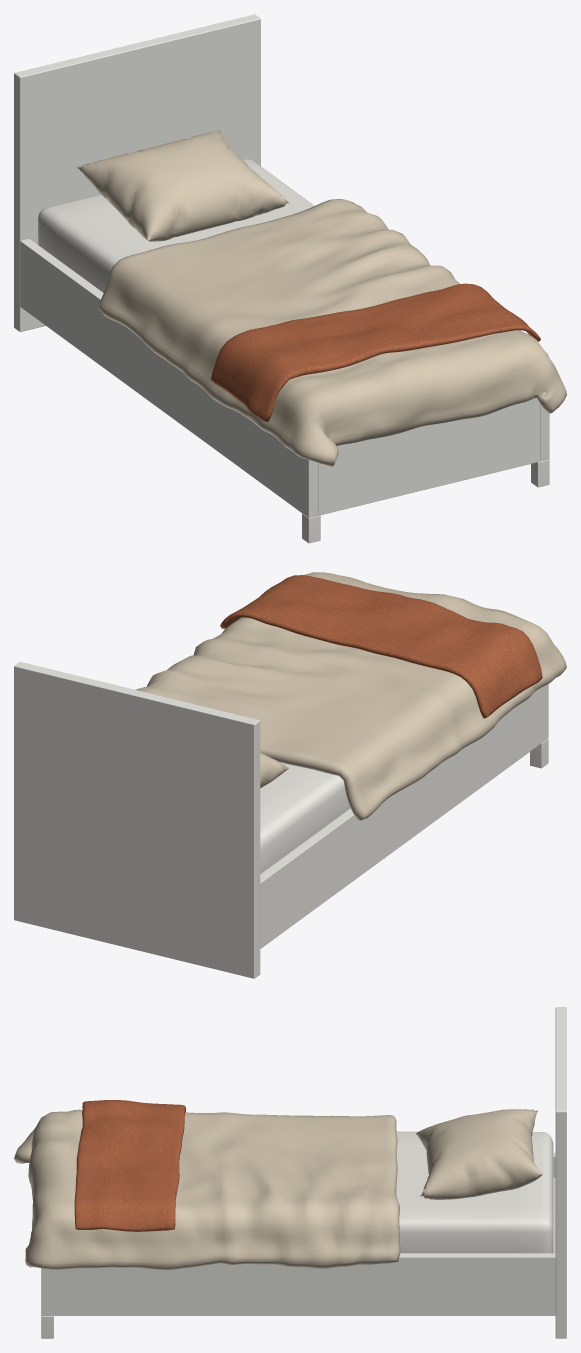
Rendered from bed_2.glb.
3 renders of one model, top to bottom at view 1: azimuth 30°, elevation 25°; view 2: azimuth 150°, elevation 25°; view 3: azimuth 270°, elevation 25°, orthographic. The views are drawn at different scales.
Visible parts, largest first — view 1: bed_v2; view 2: bed_v2; view 3: bed_v2.
Boxes of the visible parts, left/top/right/bottom form: bed_v2: left=14, top=14, right=566, bottom=543; bed_v2: left=14, top=572, right=566, bottom=978; bed_v2: left=14, top=1007, right=566, bottom=1338.
Bounding box in the file's own units: 1.17 × 1 × 2.2.
Materials: 5 (1 with a texture image).
